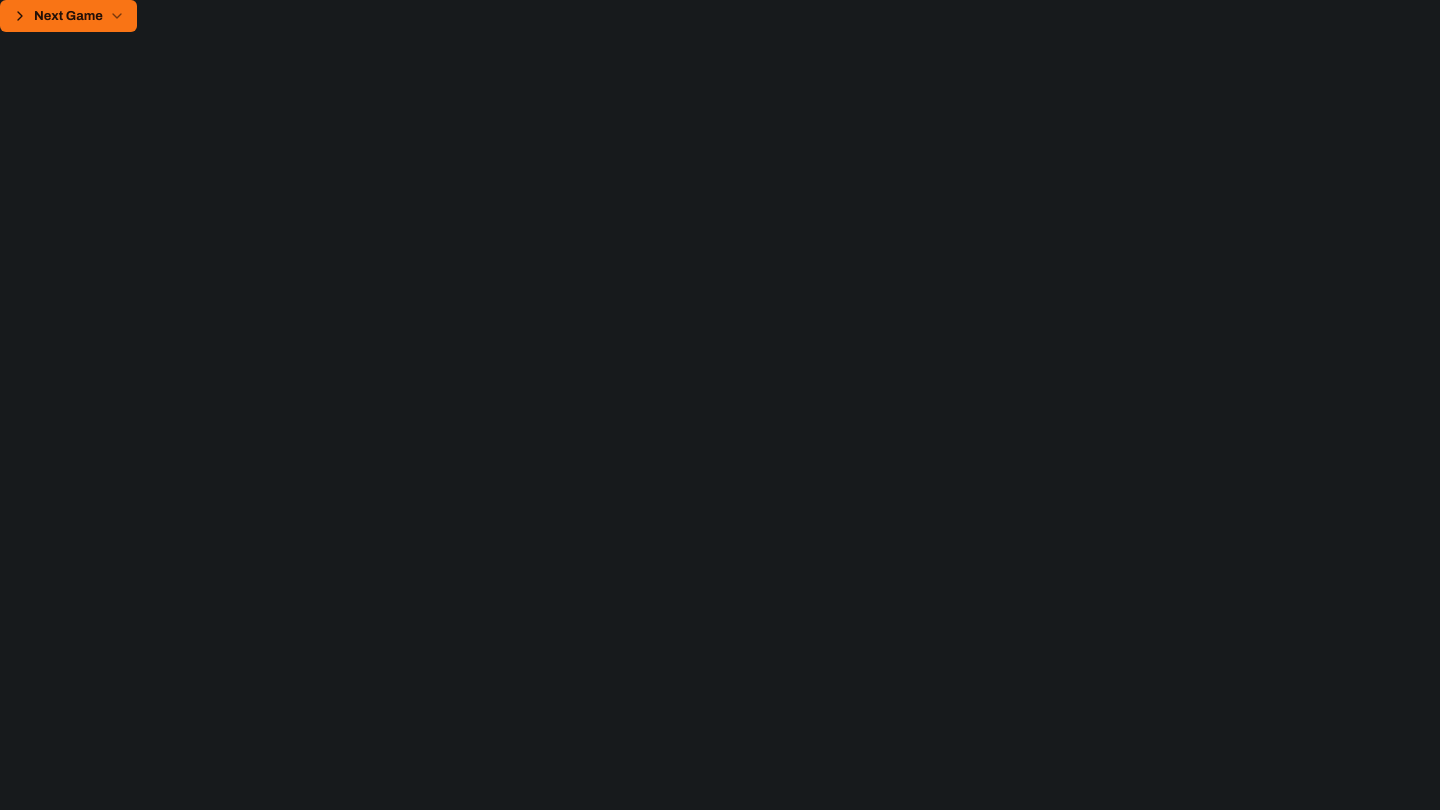
Test: a two-game season that gets a third night, and is then ended › says the same thing on every screen at every step
Later steps or results of the test are not shown.
Click the button "Next Game".
click(68, 16)  # box [0,0,137,32]
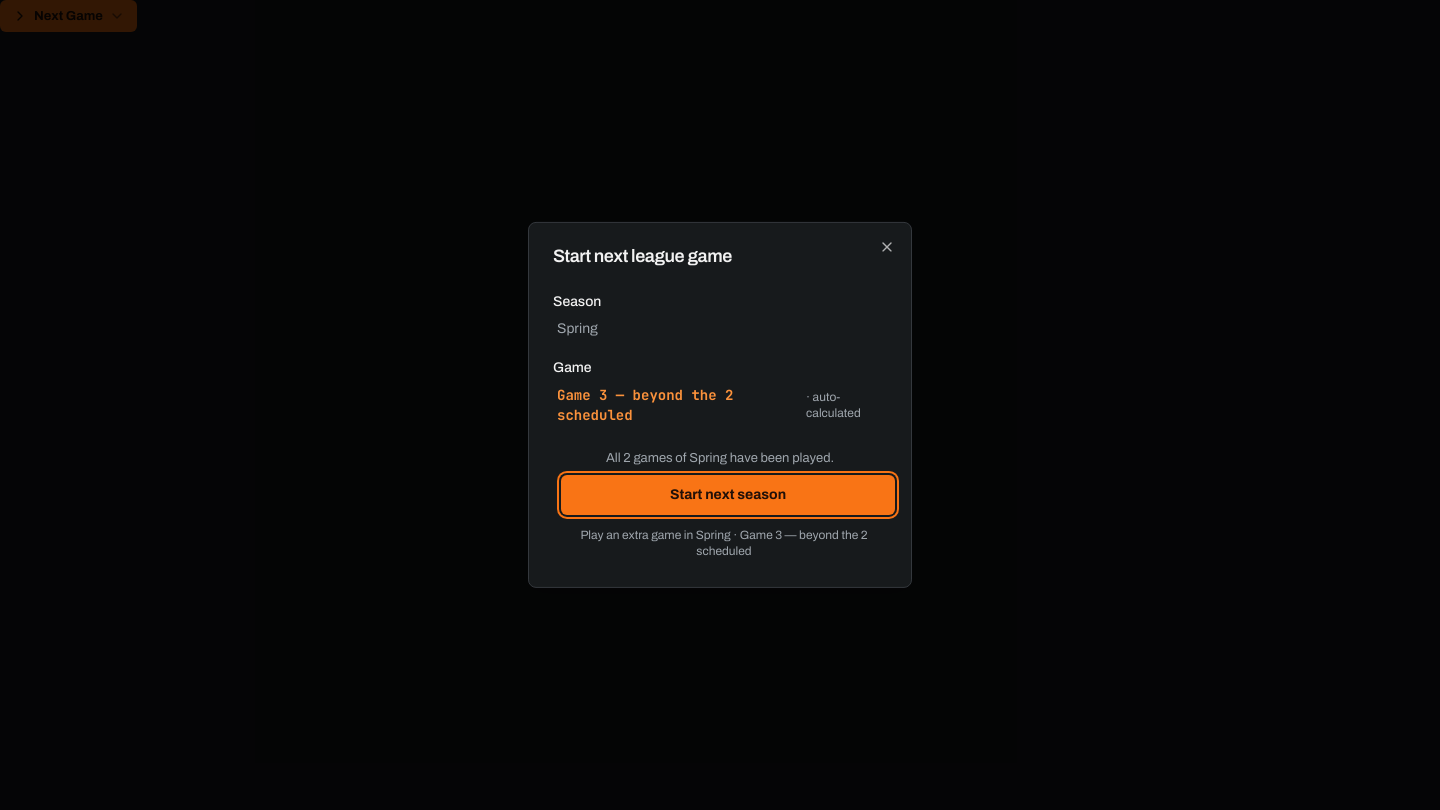
Result: the button "Start next season" is shown at [561,475,895,515]
Result: the button "Play an extra game in Spring" shows "Game 3 — beyond the 2 scheduled" at [561,523,887,563]
